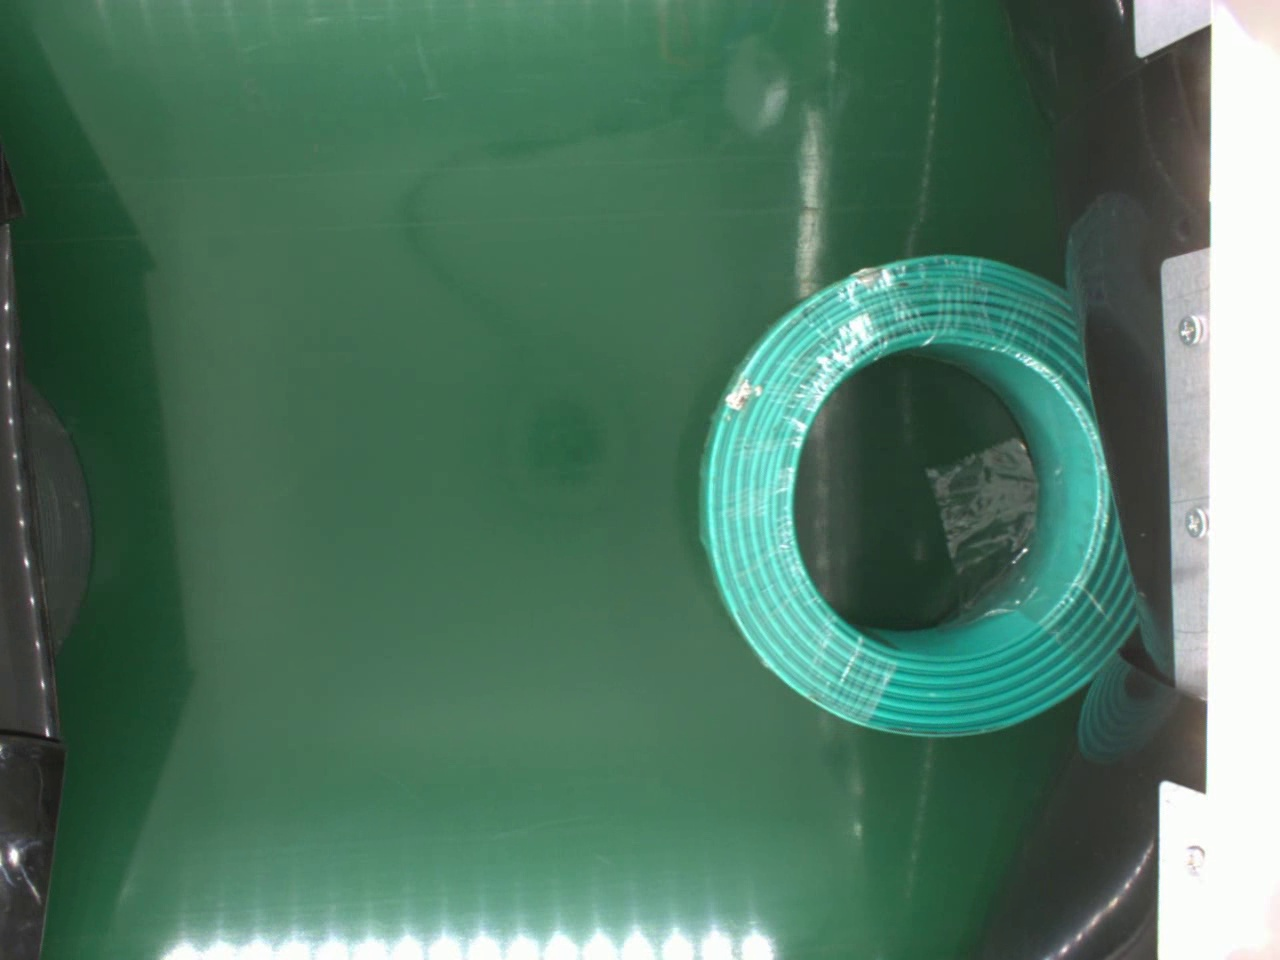green: (687, 244, 1142, 737)
